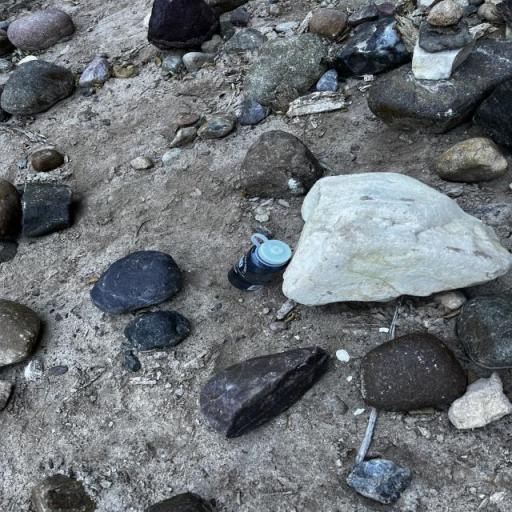bottle: (226, 234, 292, 291)
